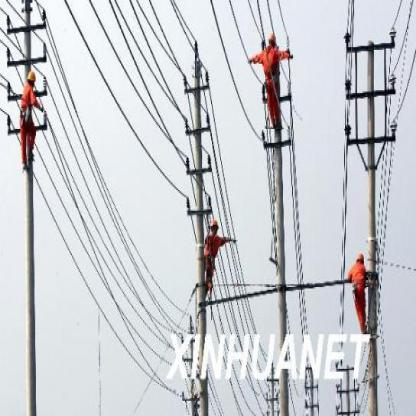helmet: (208, 217, 219, 242), (27, 66, 37, 93), (266, 30, 278, 52), (355, 251, 365, 272)
